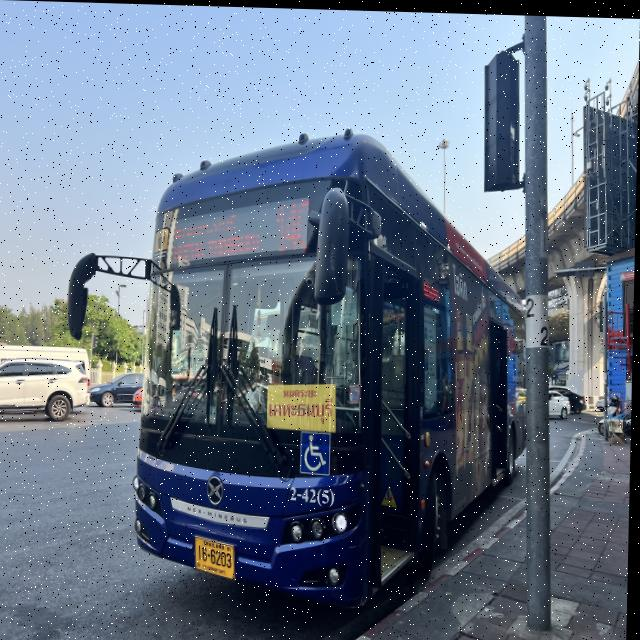Bus Line Number: (272, 190, 314, 261)
Bus Side Number: (286, 479, 339, 504)
Destination Sign: (168, 204, 262, 263), (268, 381, 338, 427)
TSB-Bus: (135, 129, 521, 611)
